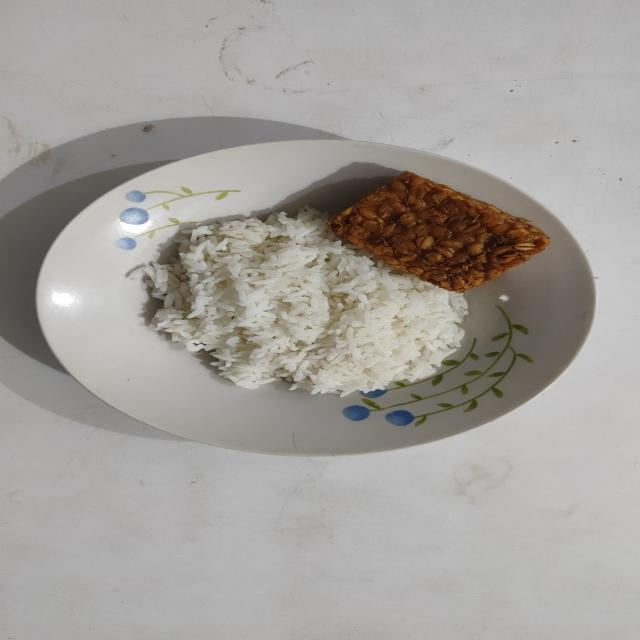nasi_putih: (130, 208, 468, 396)
tempe_goreng: (327, 171, 550, 293)
